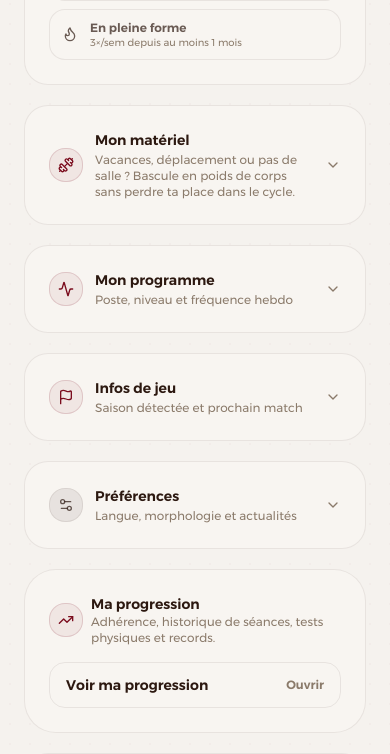
Test case: ProfilePage · Ma situation › hides in-season manual buttons when Home season_ended banner is active
(page scrolled)
Click the button "Infos de jeu Saison détectée et prochain match".
click(195, 397)  # box top-left (25, 354), bottom-right (365, 440)
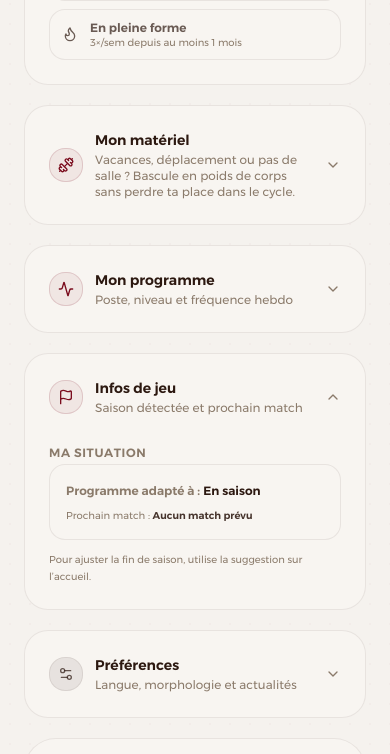
Result: the text with test id "situation-home-banner-hint" is shown at top-left (49, 552), bottom-right (341, 585)
